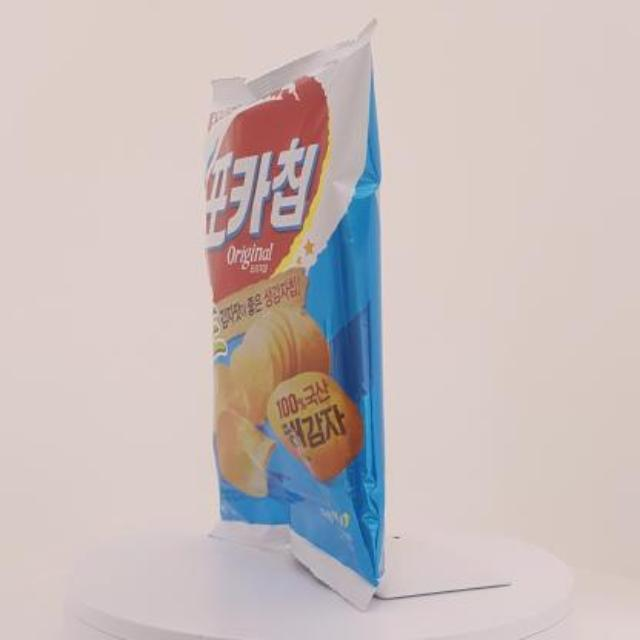snack_bag: (182, 11, 442, 626)
